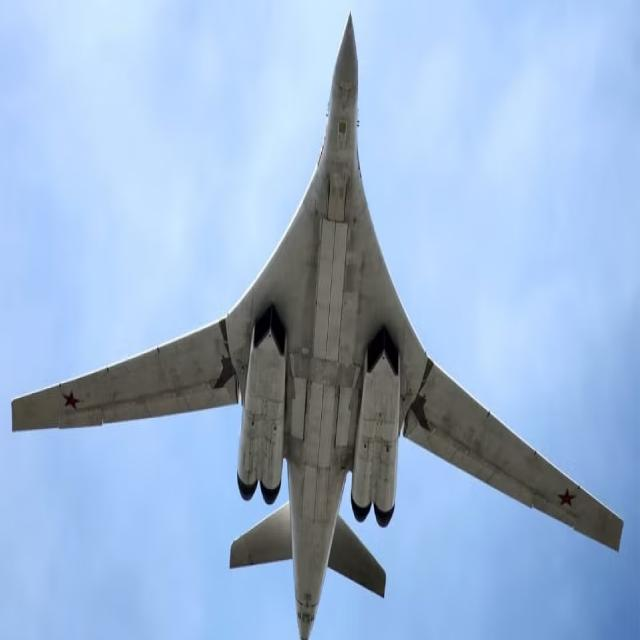Tu160: (1, 1, 629, 639)
